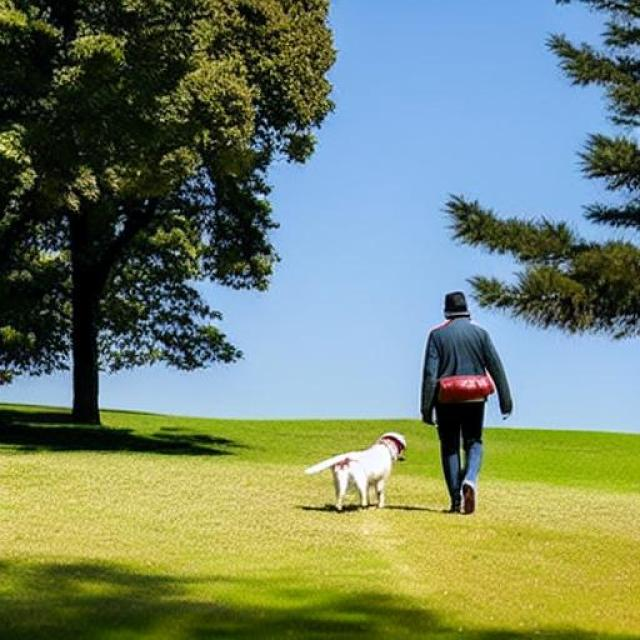Unleashed_Dog: (302, 408, 476, 511)
